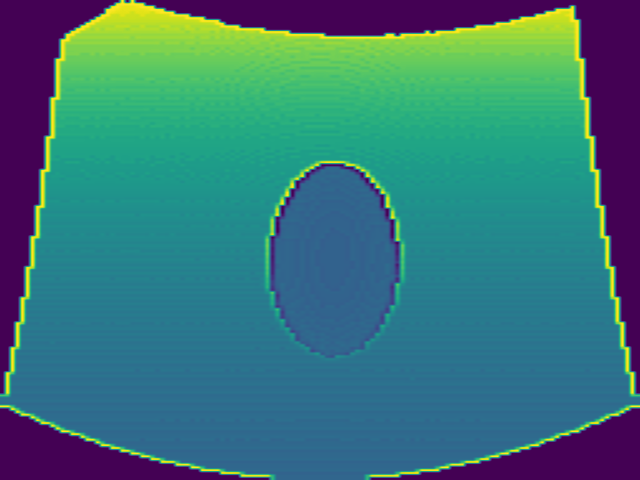sphere: (264, 159, 408, 358)
